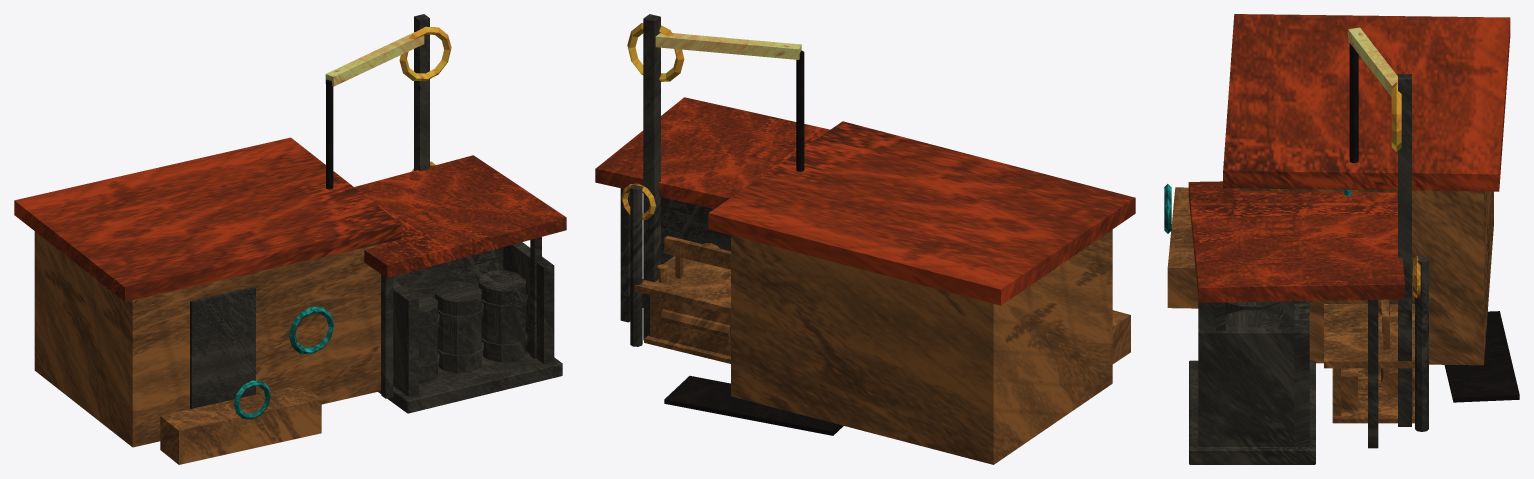
File: county-camp-rig.glb
3 renders of one model, left to right at view 1: azimuth 30°, elevation 25°; view 2: azimuth 150°, elevation 25°; view 3: azimuth 270°, elevation 25°, orthographic. The views are drawn at different scales.
Visible parts, largest first — view 1: county-camp-rig; view 2: county-camp-rig; view 3: county-camp-rig.
Part boxes in pixels (x1,y1,x2,y2): county-camp-rig: (14, 14, 566, 464); county-camp-rig: (595, 14, 1135, 464); county-camp-rig: (1164, 14, 1519, 464).
Bounding box in the file's own units: 9.18 × 6.25 × 5.6.
Materials: 1 (1 with a texture image).
